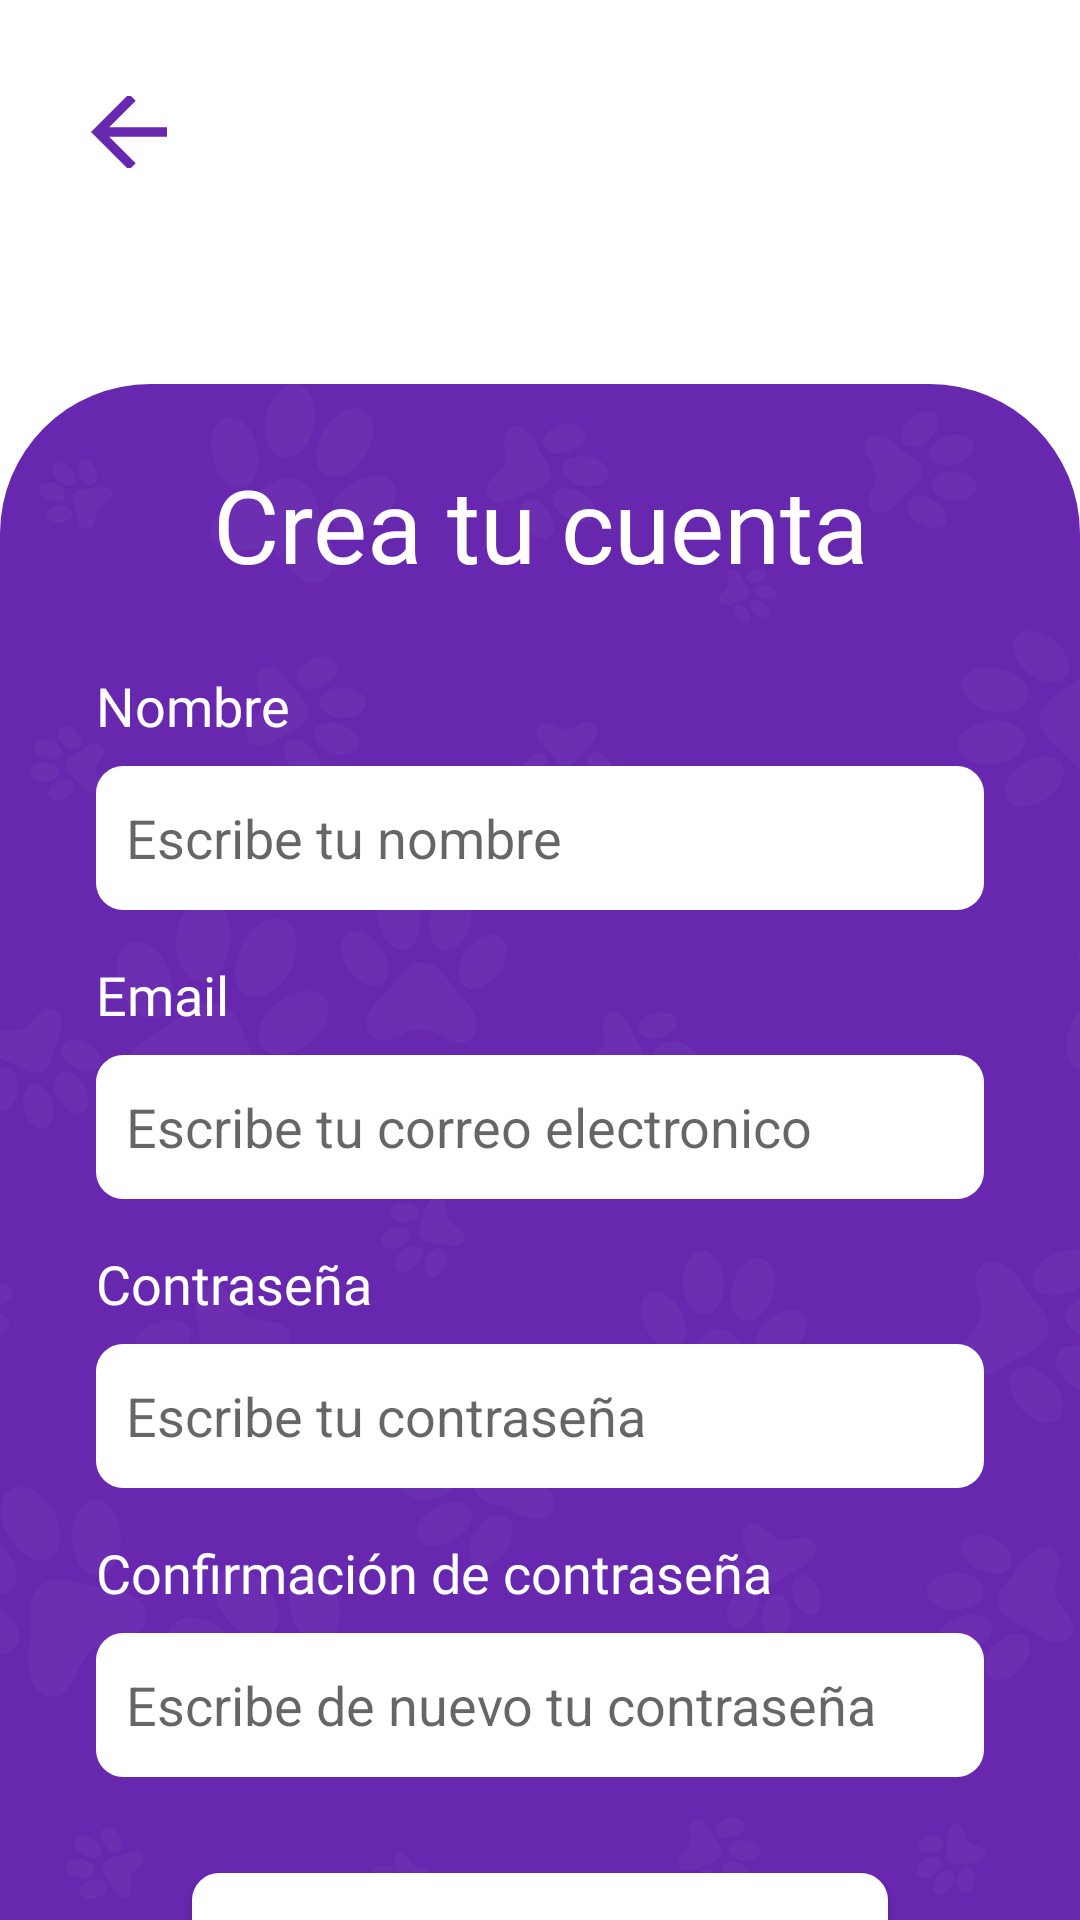

Screen size 1080x1920. Icon name, then its box in pixels as (x1, y1, x2, y2):
arrow back: (91, 96, 167, 168)
